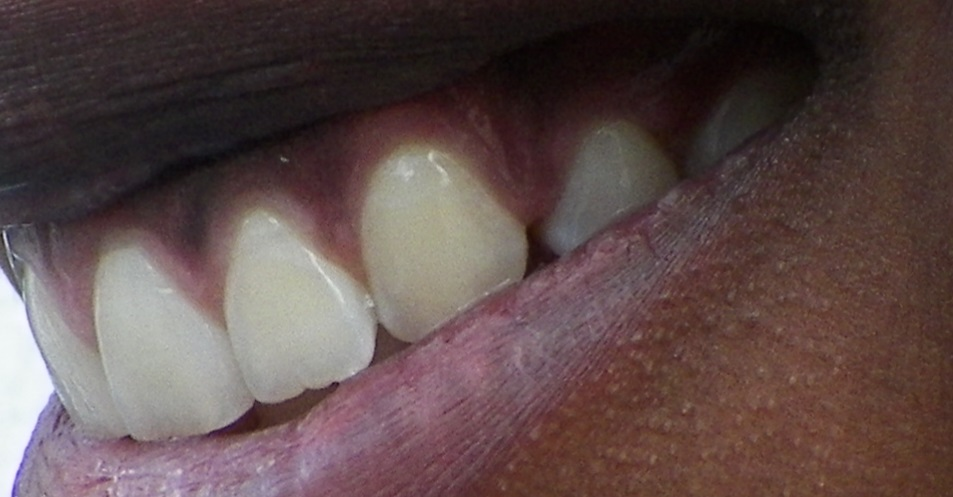boca: (37, 68, 798, 442)
